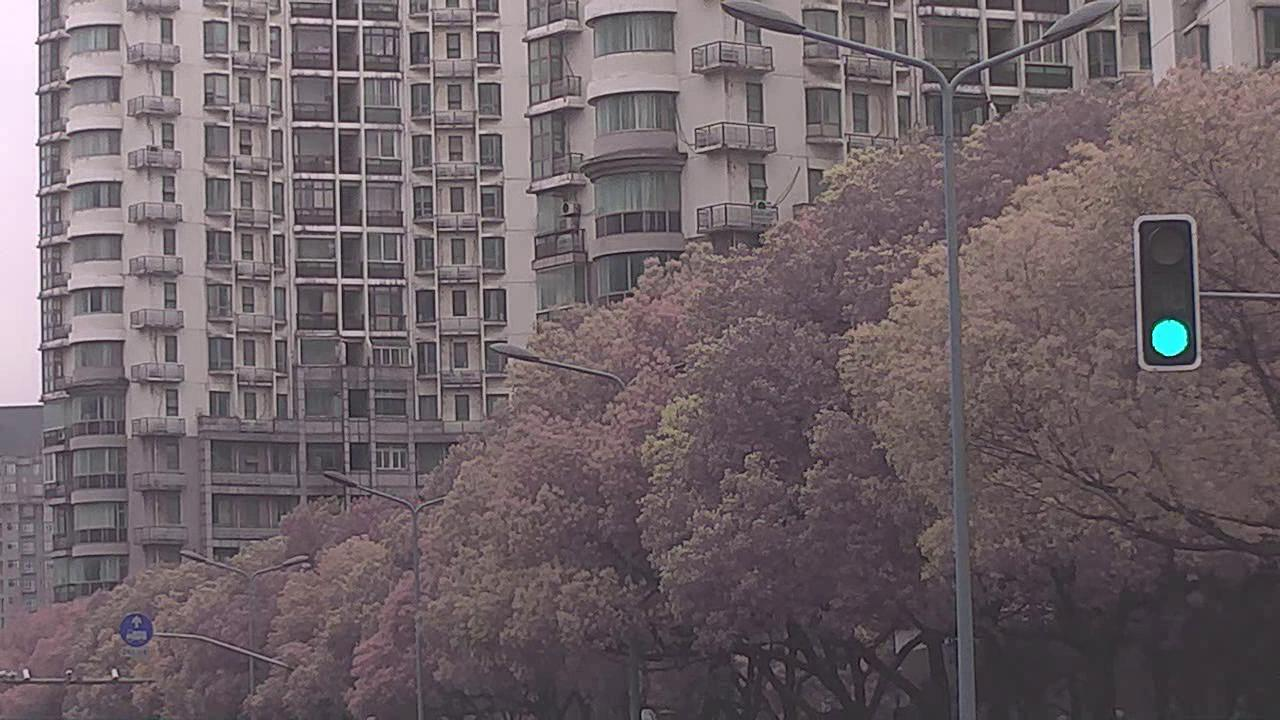traffic_light: (1135, 215, 1198, 372)
